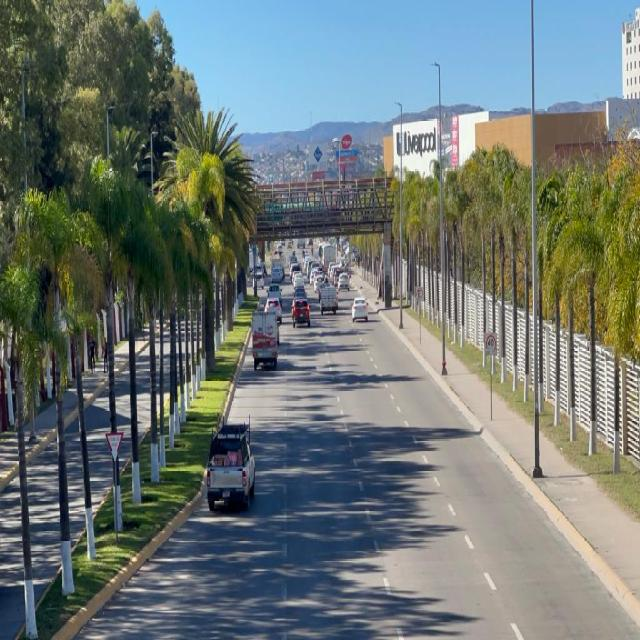Auto: (201, 411, 270, 516), (250, 307, 282, 368), (291, 294, 313, 331), (262, 299, 286, 323), (320, 286, 338, 315), (351, 300, 369, 324), (266, 281, 284, 305), (336, 269, 352, 296), (292, 271, 307, 290), (270, 267, 284, 285), (315, 274, 328, 293), (252, 274, 266, 290)
Autobus: (321, 244, 337, 270)
